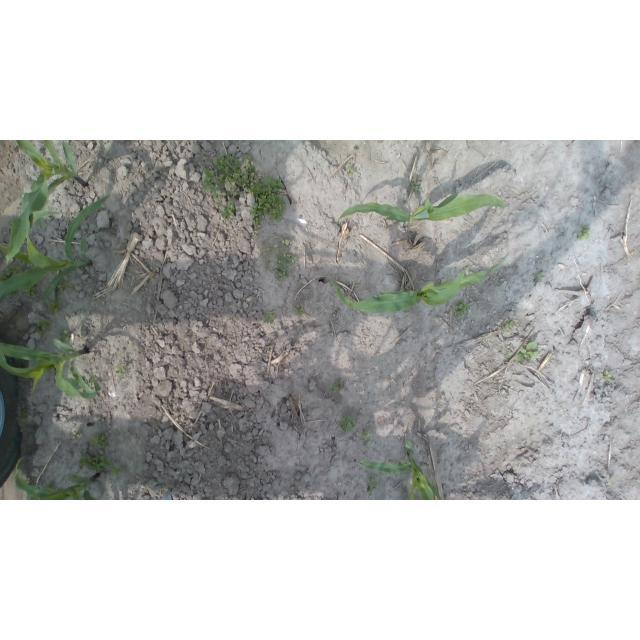Maize: (0, 194, 112, 305), (330, 250, 511, 314), (0, 141, 90, 267), (1, 337, 102, 403), (335, 190, 509, 226), (355, 440, 444, 499), (12, 456, 103, 499)
Weeds: (200, 152, 289, 231), (262, 238, 301, 283), (2, 263, 44, 299), (41, 276, 71, 316), (16, 368, 32, 441), (78, 454, 119, 475), (505, 341, 539, 364), (91, 434, 110, 453), (35, 319, 54, 333), (499, 320, 515, 336), (455, 300, 470, 316), (115, 364, 126, 383), (367, 478, 376, 499), (344, 415, 355, 432), (408, 181, 421, 193), (264, 309, 275, 323), (577, 227, 589, 239), (71, 427, 82, 439), (295, 303, 305, 316), (331, 382, 342, 393), (533, 270, 544, 281), (61, 329, 70, 340), (605, 370, 612, 383), (362, 433, 371, 443), (347, 165, 354, 175), (611, 476, 618, 485)
